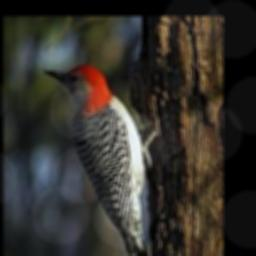Woodpecker: (44, 64, 155, 256)
